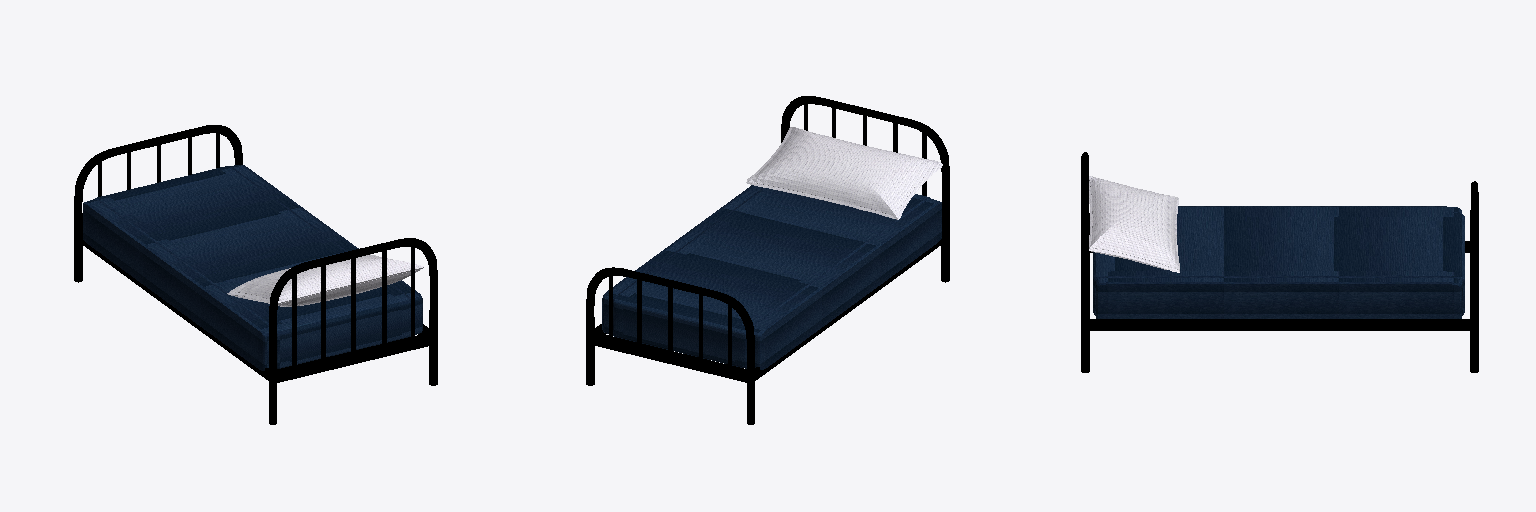
The picture shows the model from 3 angles: view 1: azimuth 30°, elevation 25°; view 2: azimuth 150°, elevation 25°; view 3: azimuth 270°, elevation 25°; orthographic projection.
Visible parts, largest first — view 1: cama1:Box002, cama1:Cylinder001, cama1:Box001; view 2: cama1:Box002, cama1:Cylinder001, cama1:Box001; view 3: cama1:Box002, cama1:Cylinder001, cama1:Box001.
Part boxes in pixels (left/top/right/bottom): cama1:Box002: left=83, top=165, right=422, bottom=370; cama1:Cylinder001: left=74, top=125, right=437, bottom=424; cama1:Box001: left=227, top=254, right=423, bottom=306; cama1:Box002: left=602, top=185, right=941, bottom=369; cama1:Cylinder001: left=586, top=96, right=949, bottom=424; cama1:Box001: left=746, top=127, right=942, bottom=219; cama1:Box002: left=1093, top=206, right=1464, bottom=318; cama1:Cylinder001: left=1081, top=152, right=1478, bottom=372; cama1:Box001: left=1089, top=176, right=1179, bottom=272.
Bounding box in the file's own units: 8.84 × 7.69 × 18.15.
Materials: 3 (2 with a texture image).